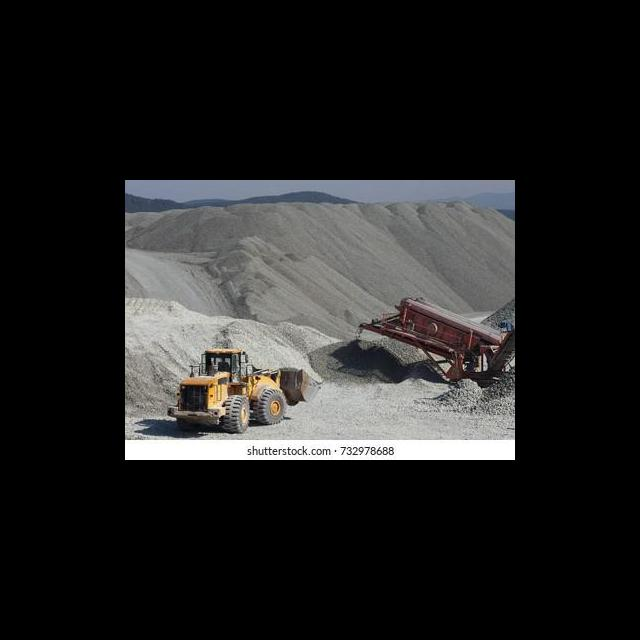Excavator: (359, 296, 515, 382)
Person: (217, 357, 229, 372)
wheel loader: (164, 339, 325, 435)
